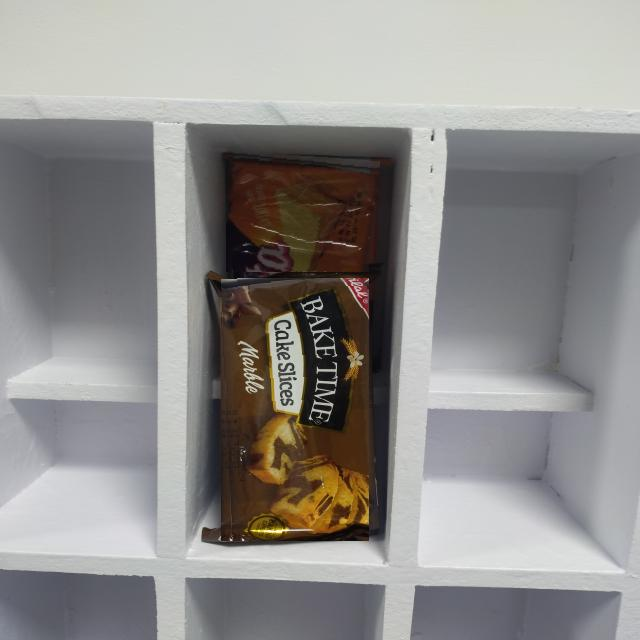Plastic: (220, 278, 369, 541), (226, 150, 380, 272)
